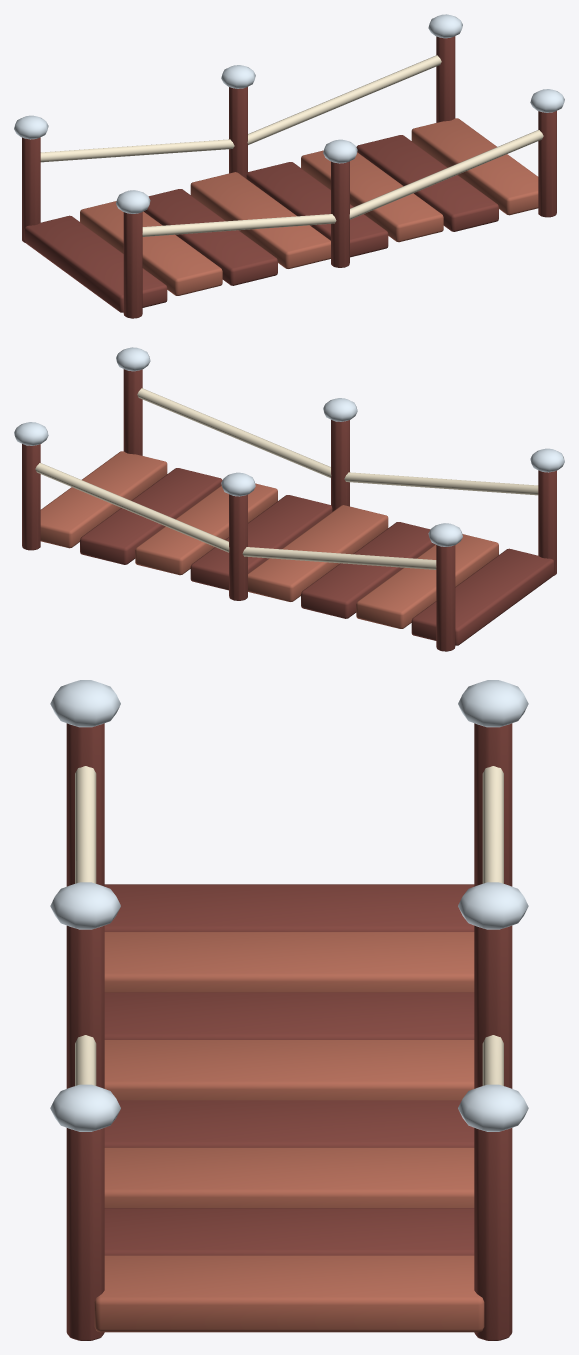
Rendered from r086_development_northern_kingdom_additions_northern_02.glb.
The picture shows the model from 3 angles, top to bottom: view 1: azimuth 30°, elevation 25°; view 2: azimuth 150°, elevation 25°; view 3: azimuth 270°, elevation 25°; orthographic projection. The views are drawn at different scales.
Visible parts, largest first — view 1: r086_development_northern_kingdom_additions_northern_02.001; view 2: r086_development_northern_kingdom_additions_northern_02.001; view 3: r086_development_northern_kingdom_additions_northern_02.001.
Part boxes in pixels (<box>): r086_development_northern_kingdom_additions_northern_02.001: <box>14,14,564,318</box>; r086_development_northern_kingdom_additions_northern_02.001: <box>14,347,564,651</box>; r086_development_northern_kingdom_additions_northern_02.001: <box>50,680,528,1340</box>.
Size of the model in its own units: 5.78 by 1.53 by 2.7.
